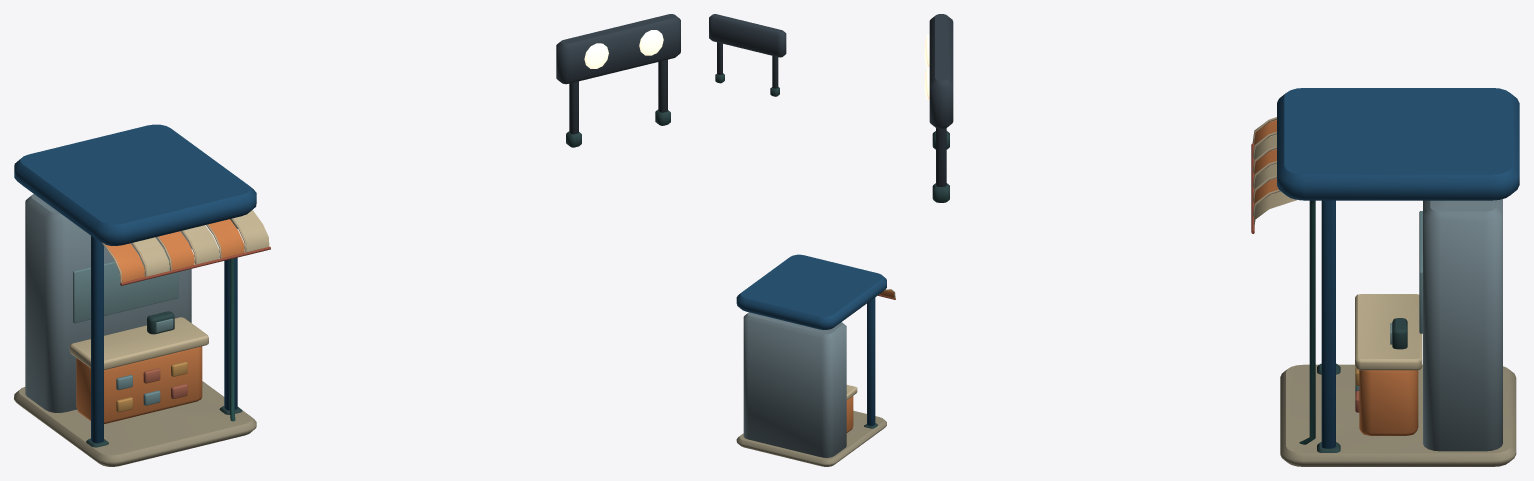
The model's file is metro_mall_4.glb.
The picture shows the model from 3 angles, left to right: view 1: azimuth 30°, elevation 25°; view 2: azimuth 150°, elevation 25°; view 3: azimuth 270°, elevation 25°; orthographic projection. The views are drawn at different scales.
Parts seen in each view (by area): view 1: Mall4; view 2: Mall4; view 3: Mall4.
Boxes of the visible parts, <box> form: Mall4: <box>14,14,680,466</box>; Mall4: <box>709,14,895,466</box>; Mall4: <box>924,14,1519,466</box>.
Bounding box in the file's own units: 6.33 × 6.35 × 6.25.
